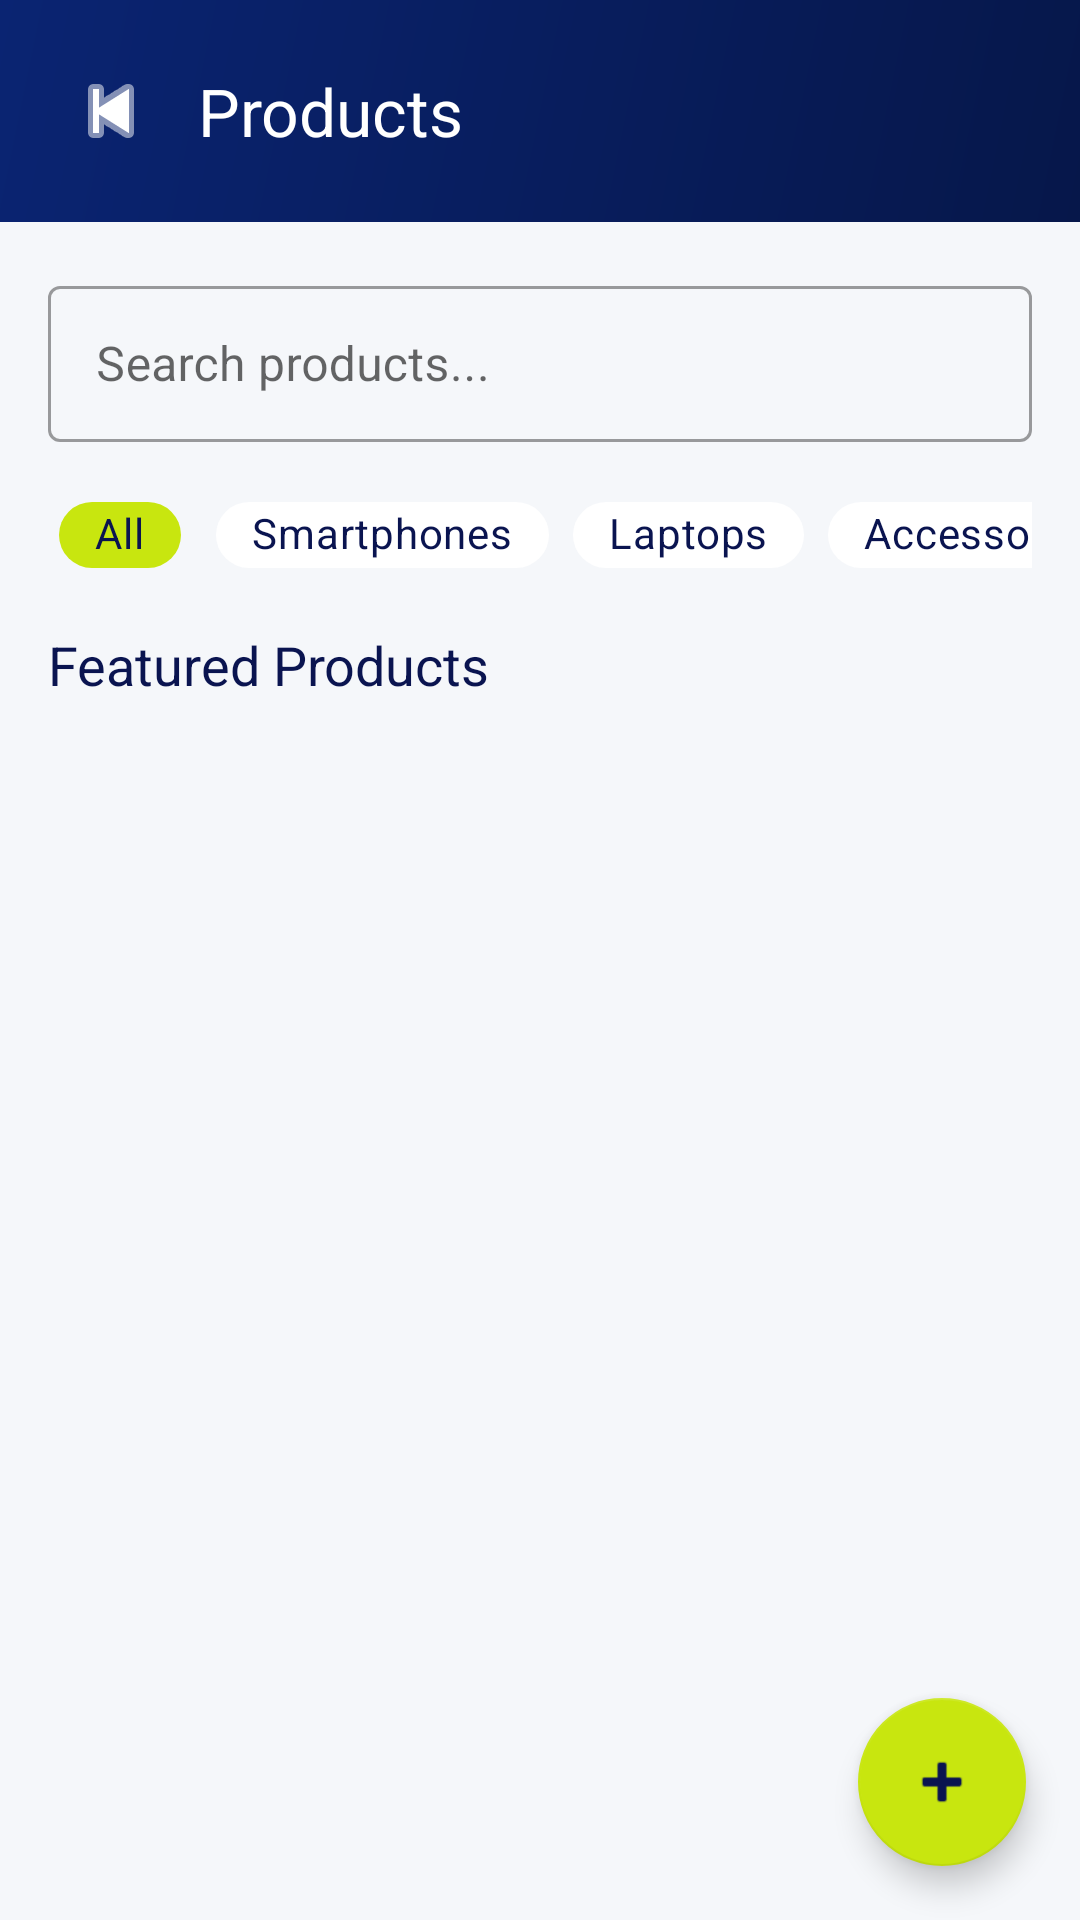

Icons on this 1080×1920 Android screen, each with its box as Rect(x1, y1, x2, y2):
Add product: Rect(858, 1698, 1026, 1866)
Back: Rect(88, 84, 134, 138)
